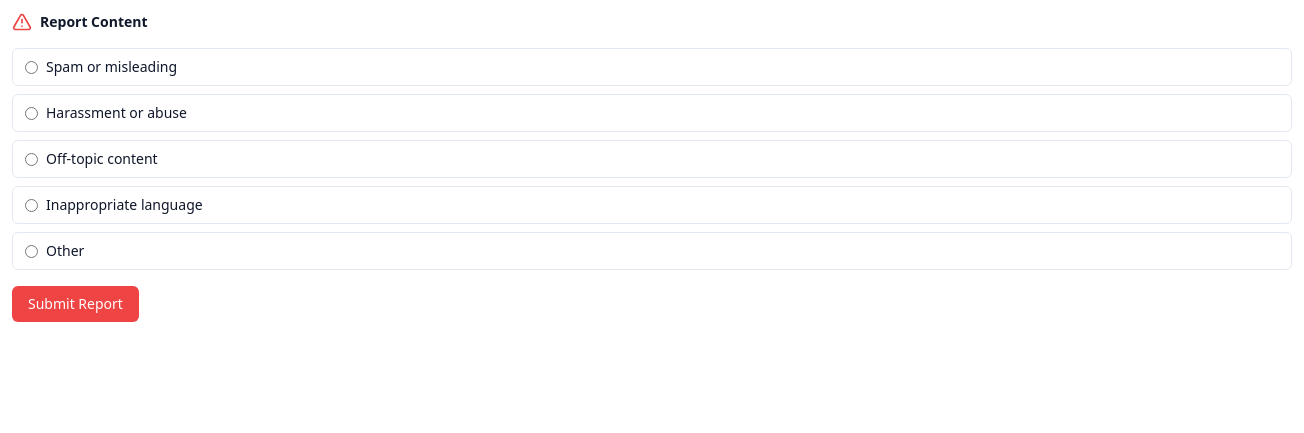
FlagForm › shows custom reason textarea when Other is selected
Click the label with test id "flag-reason-other" at (65, 250), box 12,232 -> 1292,270
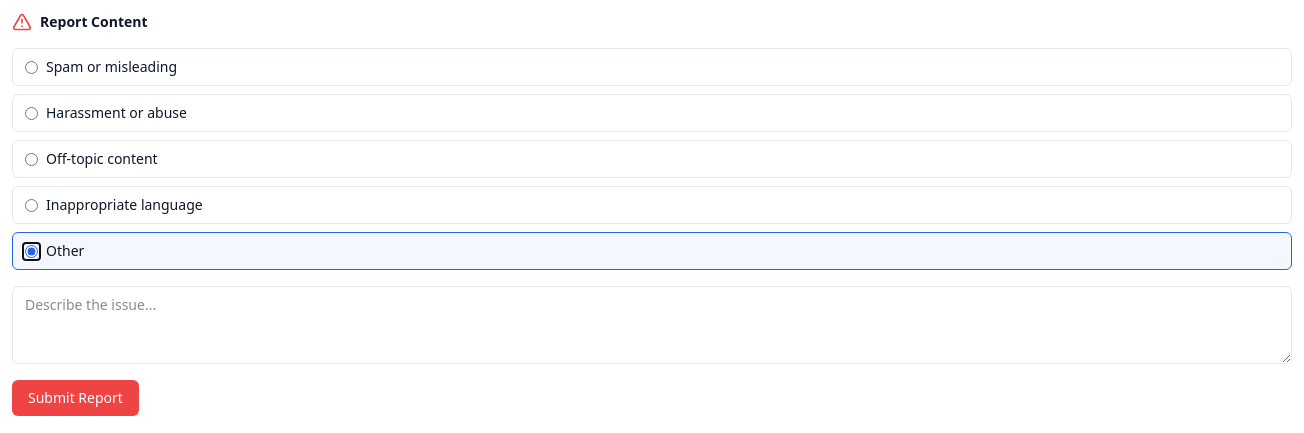
Check: the text box with test id "flag-custom-reason" is shown, box 12,286 -> 1292,364
